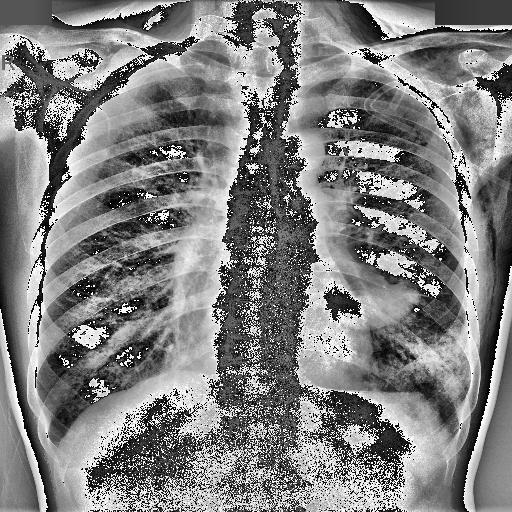0- Aortic enlargement: (276, 134, 324, 168)
13- Pulmonary fibrosis: (356, 268, 437, 322)
4- Consolidation: (322, 256, 420, 331), (334, 282, 426, 332)
6- Infiltration: (311, 236, 471, 412), (362, 338, 474, 417)
7- Lung Opacity: (362, 338, 474, 417), (319, 250, 421, 328), (374, 324, 472, 401), (334, 282, 426, 332)
8- Nodule-Mass: (322, 256, 420, 331), (334, 282, 426, 332)
9- Other lesion: (422, 56, 502, 331), (451, 112, 511, 334), (315, 1, 476, 74), (334, 0, 480, 75), (454, 108, 500, 332), (100, 2, 214, 60), (343, 4, 443, 64), (86, 1, 178, 65), (110, 12, 158, 54)
